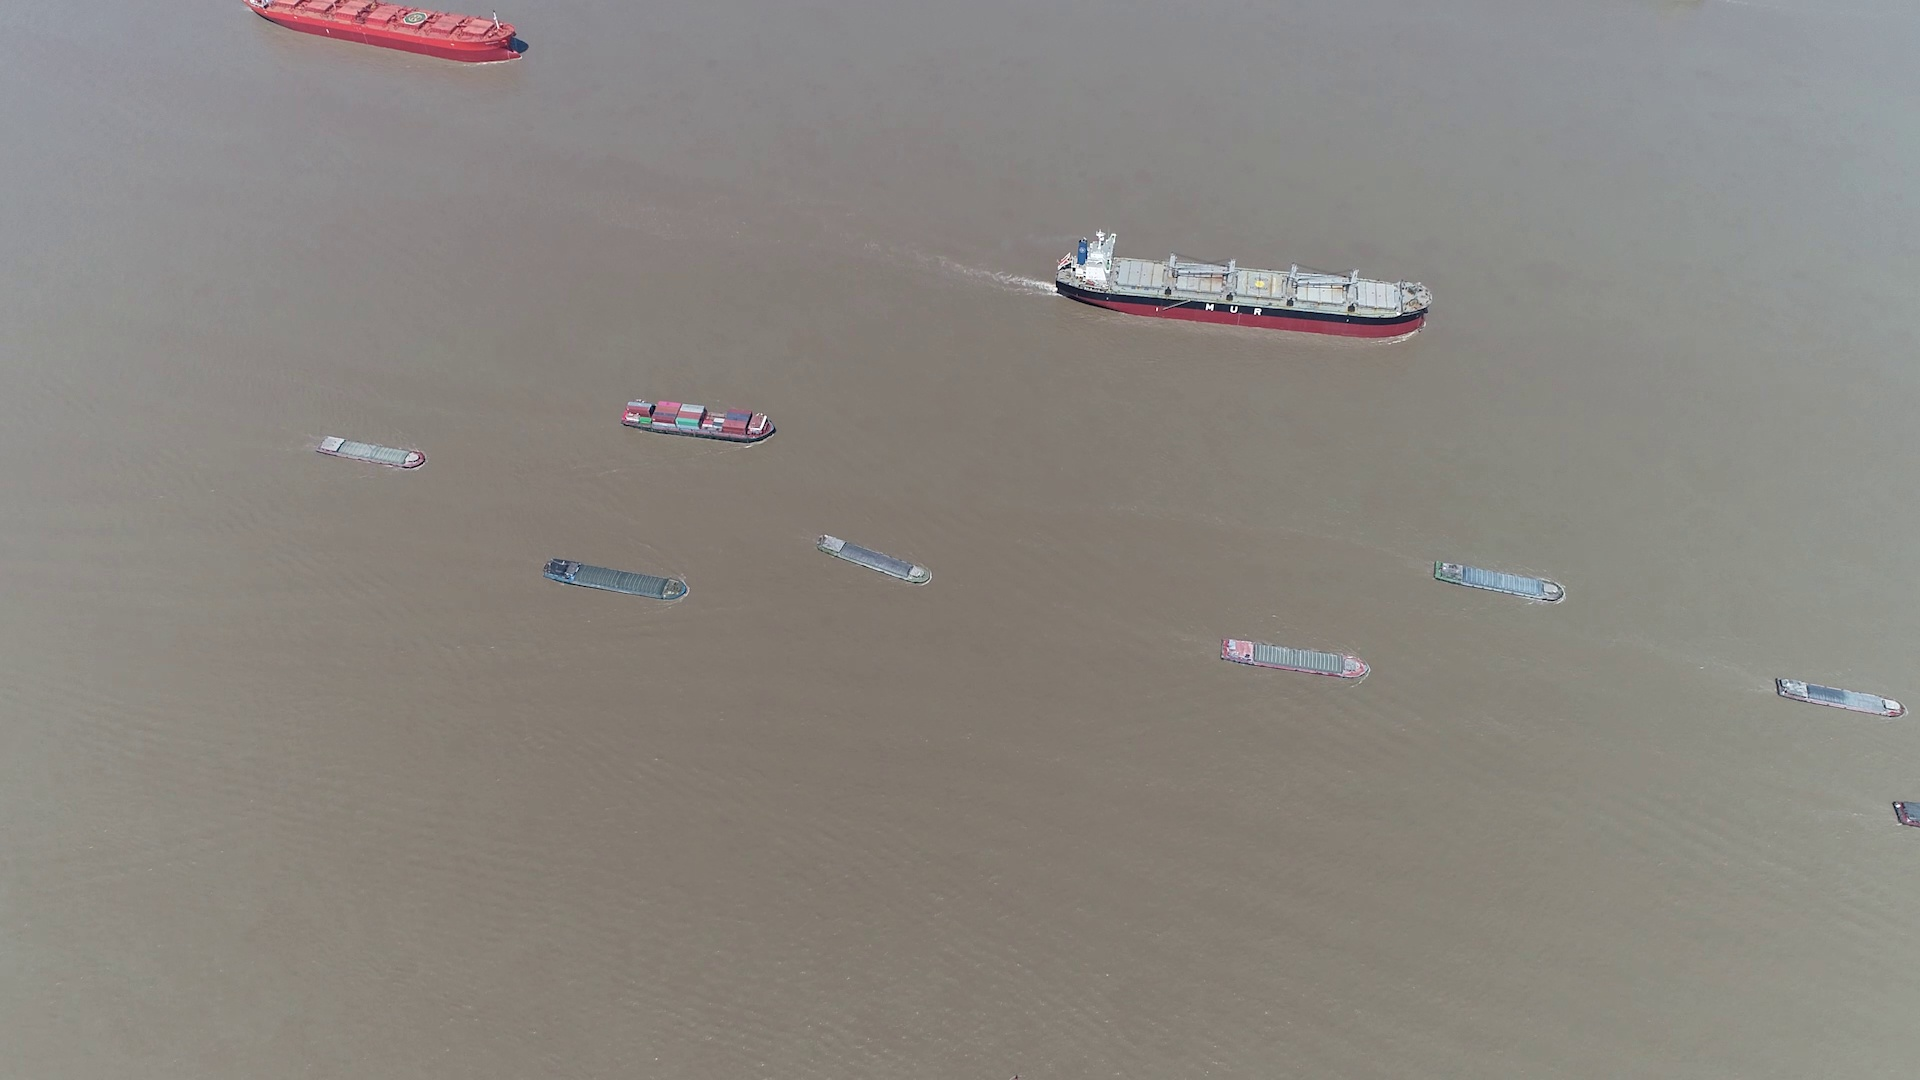ship: (1060, 233, 1433, 338), (248, 0, 526, 63), (620, 400, 775, 442), (1432, 560, 1571, 605), (1221, 638, 1371, 679), (545, 560, 688, 603), (816, 535, 932, 587), (1772, 676, 1904, 717), (316, 434, 427, 469), (1892, 800, 1917, 831)
